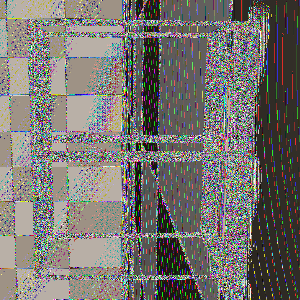Rack: (40, 19, 275, 280)
